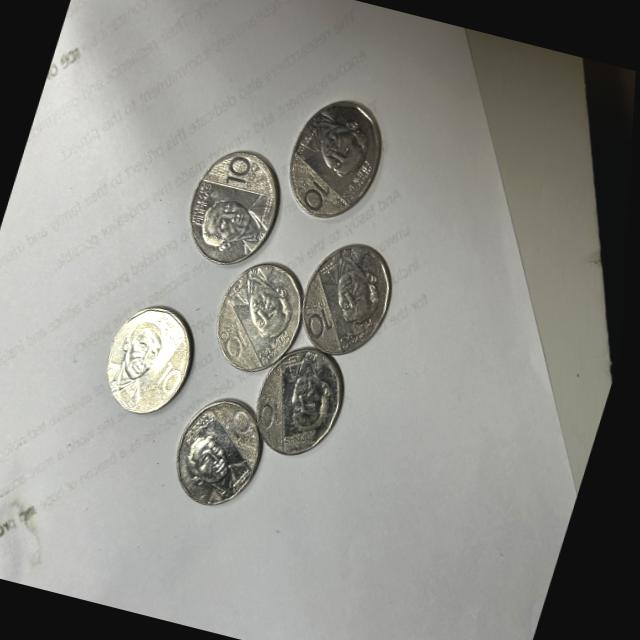10_New_Front: (152, 350, 198, 412), (294, 292, 348, 344), (215, 147, 265, 200), (219, 402, 268, 449), (290, 171, 343, 214), (218, 316, 270, 358), (258, 383, 298, 425)
